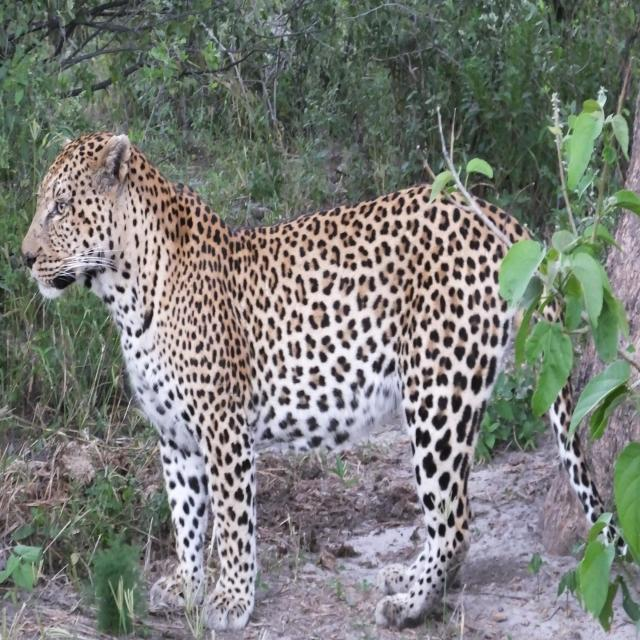Leopard: (8, 133, 637, 629)
